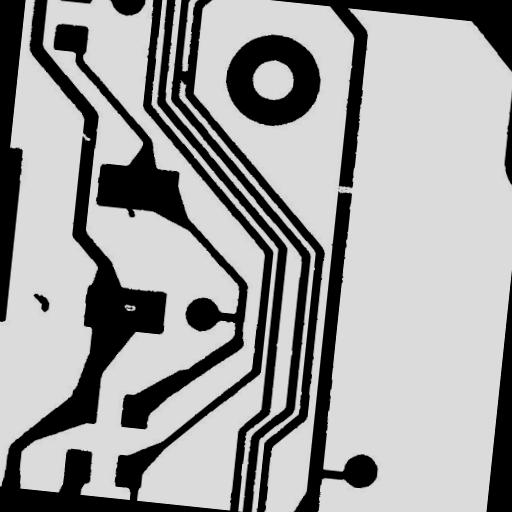copper: (24, 286, 58, 320)
mousebite: (70, 124, 99, 149)
open: (322, 176, 364, 206)
pin-hole: (115, 296, 144, 320)
short: (170, 61, 199, 93)
spur: (117, 198, 144, 226)
